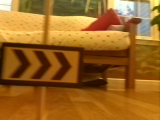right: (1, 43, 80, 85)
